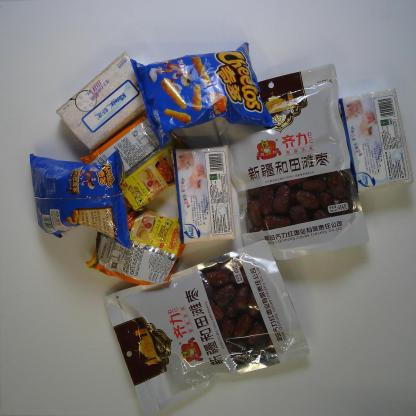Dried Food: (102, 236, 312, 416), (214, 62, 371, 263)
Instant Noodles: (79, 111, 189, 211), (83, 206, 184, 286)
Puffed Food: (128, 38, 276, 152), (26, 147, 135, 251)
Tissue: (54, 50, 147, 152), (336, 88, 413, 193), (170, 142, 237, 244)
